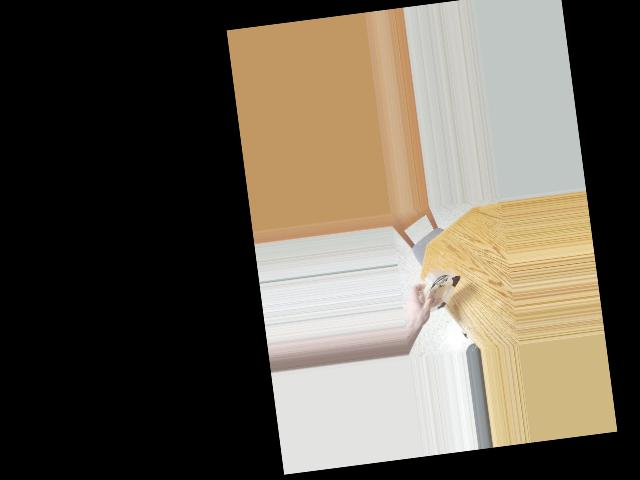cheese: (417, 263, 463, 325)
